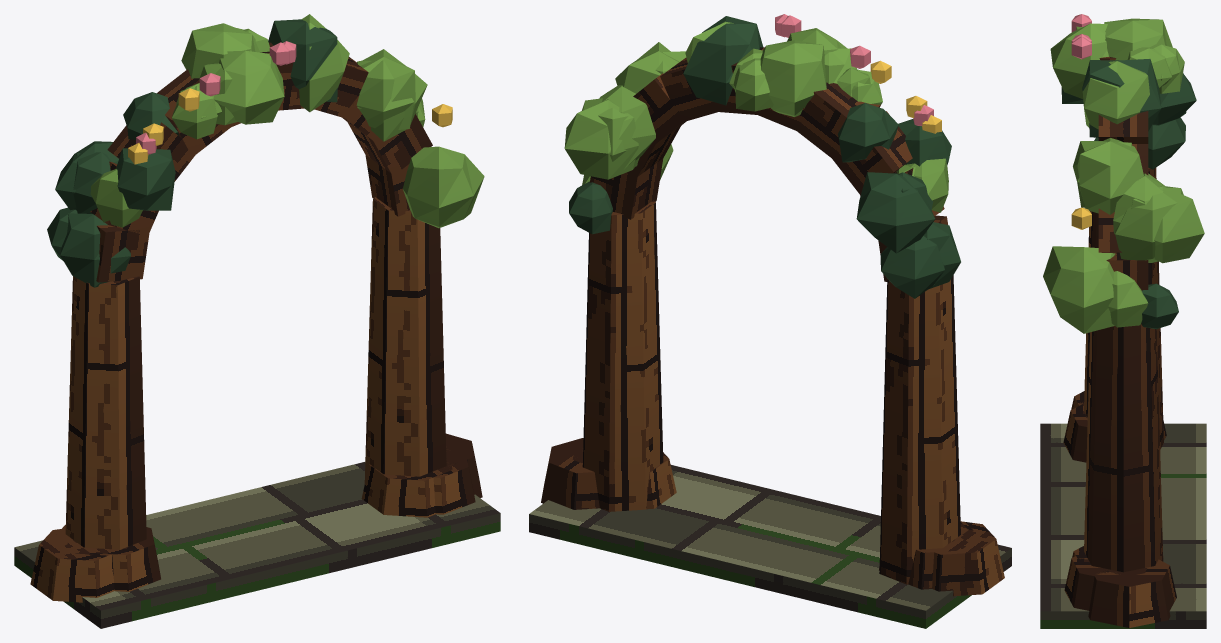
File: vine_arch.glb
The picture shows the model from 3 angles, left to right: view 1: azimuth 30°, elevation 25°; view 2: azimuth 150°, elevation 25°; view 3: azimuth 270°, elevation 25°; orthographic projection. The views are drawn at different scales.
Parts seen in each view (by area): view 1: vine_arch; view 2: vine_arch; view 3: vine_arch.
Boxes of the visible parts, x1,y1,x2,y2 form: vine_arch: [14, 14, 500, 628]; vine_arch: [529, 14, 1011, 628]; vine_arch: [1040, 14, 1206, 628].
Bounding box in the file's own units: 3.56 × 3.99 × 1.2.
Materials: 3 (2 with a texture image).
